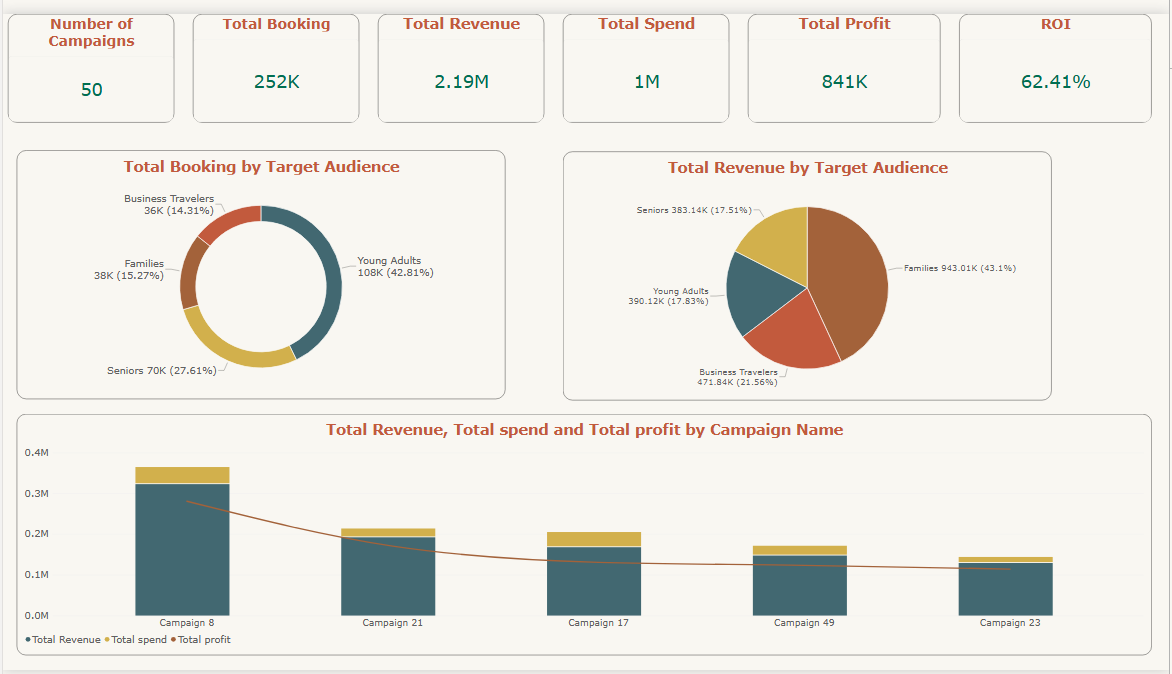

This screenshot's page, from the dashboard's own definition file:
{"tool":"powerbi","page":{"name":"Page 1","canvas":[2560,1440],"ordinal":0},"visuals":[{"type":"cardVisual","title":"Number of Campaigns","fields":{"Data":["DAX_Measures.# campaigns"]},"box":[11,0,365,238.8],"z":0},{"type":"cardVisual","title":"Total Booking","fields":{"Data":["DAX_Measures.Total Booking"]},"box":[417.2,0,365,238.8],"z":1},{"type":"cardVisual","title":"Total Revenue","fields":{"Data":["DAX_Measures.Total Revenue"]},"box":[823.3,0,365,238.8],"z":2},{"type":"cardVisual","title":"Total Spend","fields":{"Data":["DAX_Measures.Total spend"]},"box":[1229.5,0,365,238.8],"z":3},{"type":"cardVisual","title":"Total Profit","fields":{"Data":["DAX_Measures.Total profit"]},"box":[1635.7,0,422.6,238.8],"z":4},{"type":"cardVisual","title":"ROI","fields":{"Data":["DAX_Measures.ROI"]},"box":[2099.5,0,422.6,238.8],"z":5},{"type":"donutChart","fields":{"Category":["Sheet1.Target Audience"],"Y":["DAX_Measures.Total Booking"]},"box":[30.2,299.1,1073.1,546.1],"z":6},{"type":"pieChart","fields":{"Category":["Sheet1.Target Audience"],"Y":["DAX_Measures.Total Revenue"]},"box":[1229.5,301.9,1073,546],"z":7},{"type":"lineStackedColumnComboChart","fields":{"Category":["Sheet1.Campaign Name"],"Y":["DAX_Measures.Total Revenue","DAX_Measures.Total spend"],"Y2":["DAX_Measures.Total profit"]},"box":[30.2,878.2,2491.9,529.7],"z":8}]}

Visuals, with their boxes in screenshot pixels (x1, y1, x2, y2), scaled from the page's 2560x1440 canvas onto the 1172x674 screenshot:
"Number of Campaigns" cardVisual: [left=5, top=0, right=172, bottom=112]
"Total Booking" cardVisual: [left=191, top=0, right=358, bottom=112]
"Total Revenue" cardVisual: [left=377, top=0, right=544, bottom=112]
"Total Spend" cardVisual: [left=563, top=0, right=730, bottom=112]
"Total Profit" cardVisual: [left=749, top=0, right=942, bottom=112]
"ROI" cardVisual: [left=961, top=0, right=1155, bottom=112]
donutChart - Sheet1.Target Audience x DAX_Measures.Total Booking: [left=14, top=140, right=505, bottom=396]
pieChart - Sheet1.Target Audience x DAX_Measures.Total Revenue: [left=563, top=141, right=1054, bottom=397]
lineStackedColumnComboChart - Sheet1.Campaign Name x DAX_Measures.Total Revenue: [left=14, top=411, right=1155, bottom=659]
